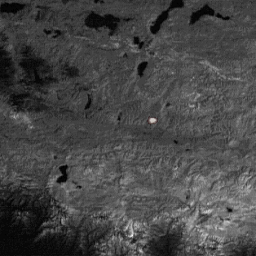Target: (147, 116, 158, 124)
